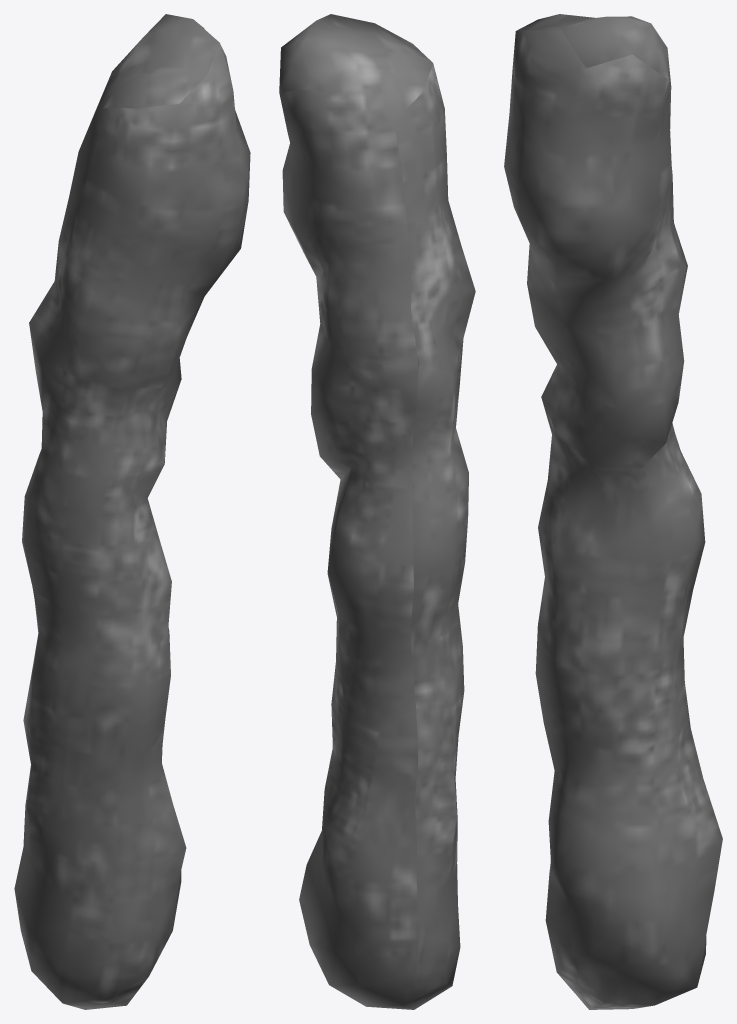
File: cheeto-export-01.glb
3 views of the same model, side by side, from view 1: azimuth 30°, elevation 25°; view 2: azimuth 150°, elevation 25°; view 3: azimuth 270°, elevation 25° (orthographic). The views are drawn at different scales.
Parts seen in each view (by area): view 1: Cheetos_Crunch_All_Scan_Everything-remeshed; view 2: Cheetos_Crunch_All_Scan_Everything-remeshed; view 3: Cheetos_Crunch_All_Scan_Everything-remeshed.
Boxes of the visible parts, x1,y1,x2,y2 form: Cheetos_Crunch_All_Scan_Everything-remeshed: (14,14,250,1009); Cheetos_Crunch_All_Scan_Everything-remeshed: (279,14,475,1009); Cheetos_Crunch_All_Scan_Everything-remeshed: (504,14,722,1009).
Bounding box in the file's own units: 10.31 × 49.96 × 9.57.
Materials: 1 (1 with a texture image).
